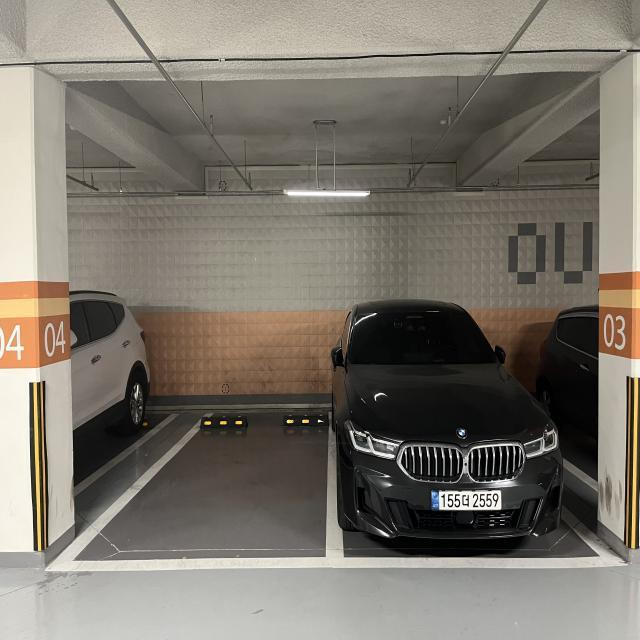Car: (329, 278, 591, 578)
Vacant: (65, 400, 327, 568)
